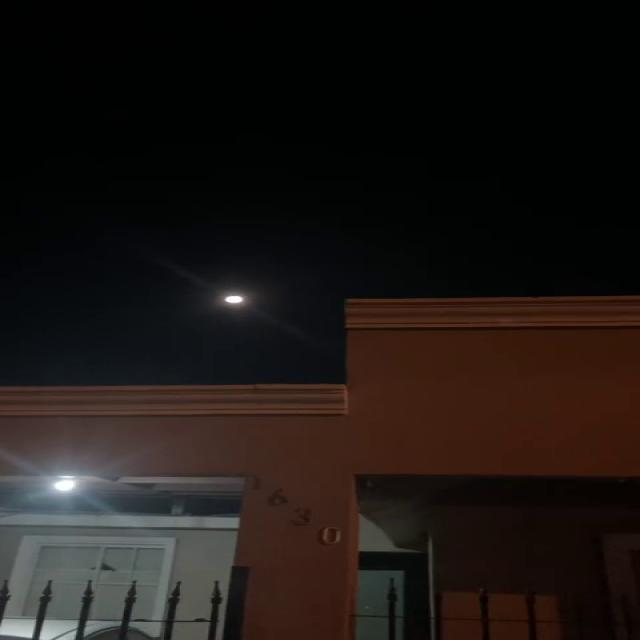moon: (226, 290, 252, 313)
